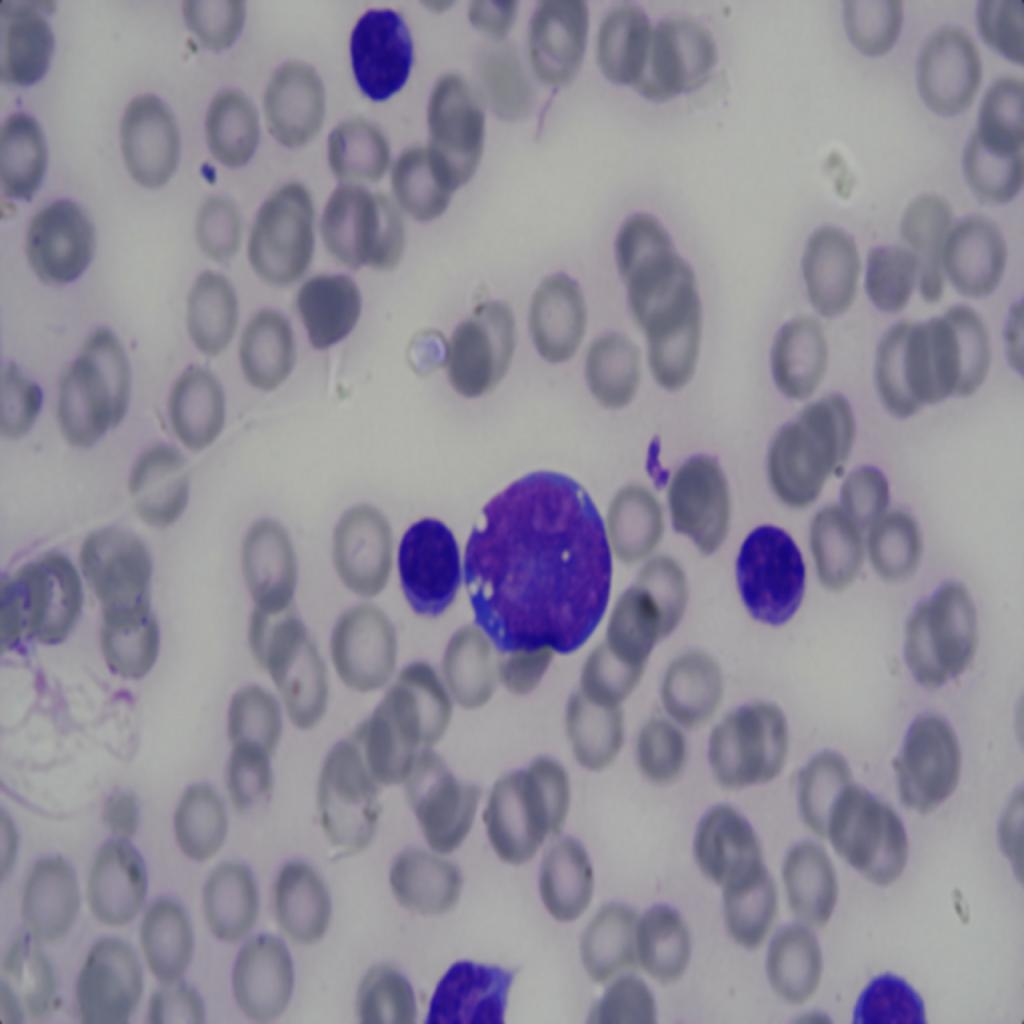Myeoblast: (465, 464, 615, 681), (722, 506, 815, 652), (380, 506, 470, 634), (338, 8, 428, 130)
Platelet: (194, 146, 227, 194)
